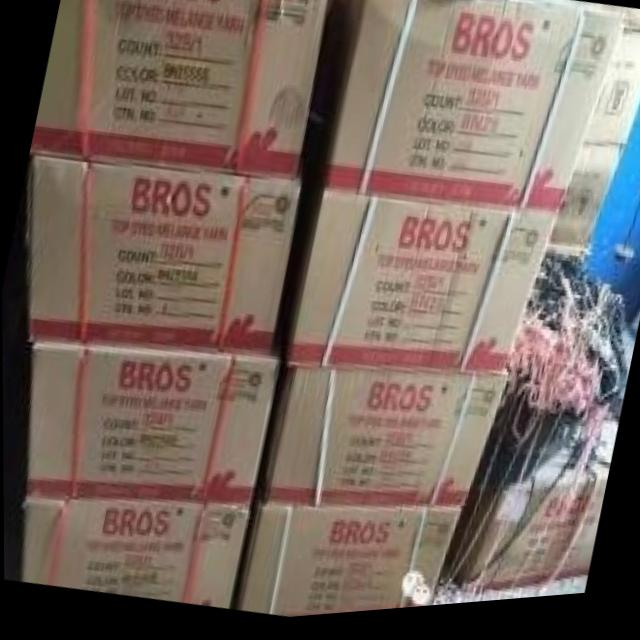box: (301, 0, 626, 221), (274, 176, 556, 382), (28, 0, 328, 183), (27, 157, 299, 358), (26, 344, 277, 509), (253, 368, 504, 516), (441, 421, 618, 602), (228, 488, 458, 620), (21, 501, 249, 609), (548, 154, 622, 257), (581, 37, 640, 155)
